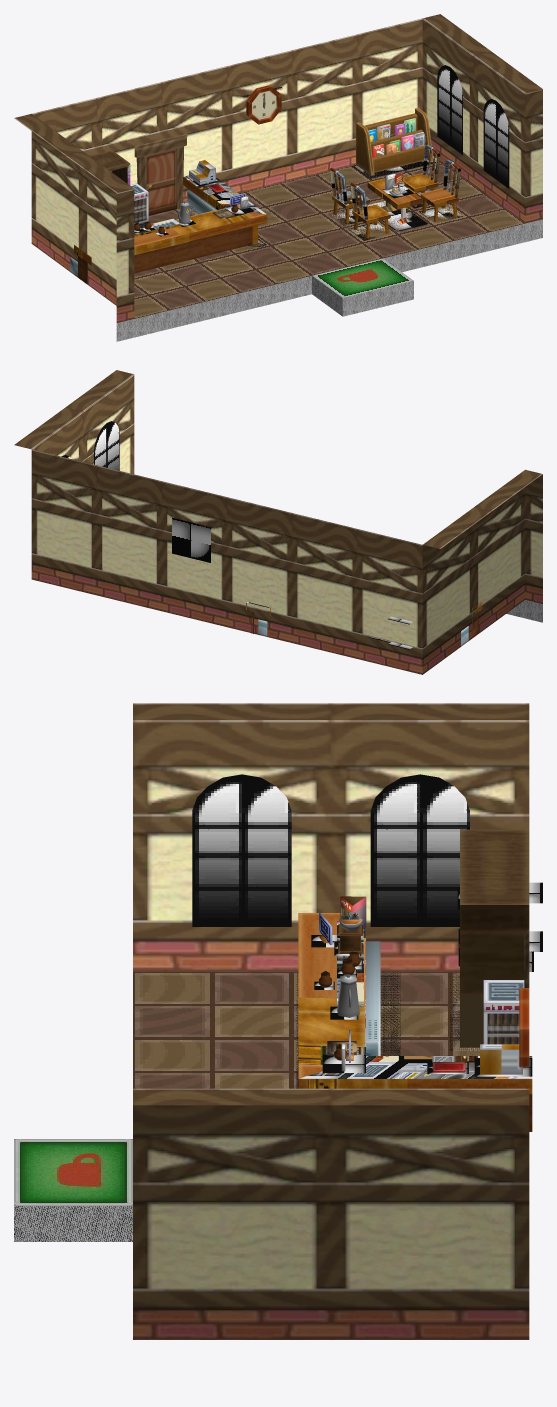
Rendered from idr_cafe.dae.
3 renders of one model, top to bottom at view 1: azimuth 30°, elevation 25°; view 2: azimuth 150°, elevation 25°; view 3: azimuth 270°, elevation 25°, orthographic. The views are drawn at different scales.
Visible parts, largest first — view 1: idr_cafe (×8); view 2: idr_cafe (×5); view 3: idr_cafe (×8).
Boxes of the visible parts, <box> form: idr_cafe (×8): <box>14,14,542,341</box>; idr_cafe (×5): <box>14,370,542,674</box>; idr_cafe (×8): <box>14,703,542,1339</box>.
Size of the model in its own units: 384 by 128 by 214.
Materials: 8 (8 with a texture image).
